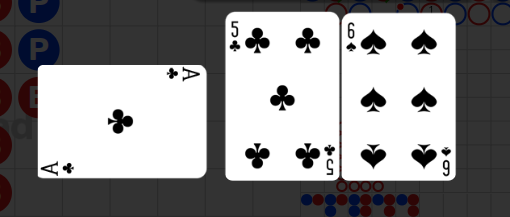5C: (228, 20, 243, 54)
6S: (439, 144, 452, 177)
AC: (40, 158, 78, 176)
